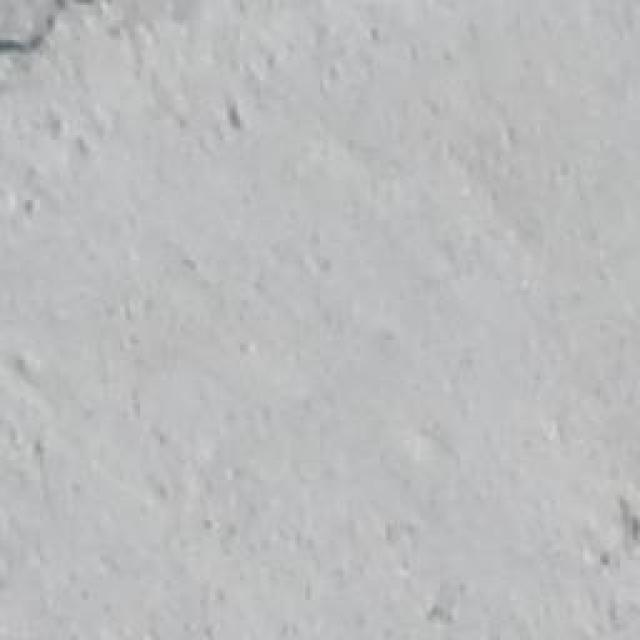concrete-crack: (0, 4, 62, 58)
